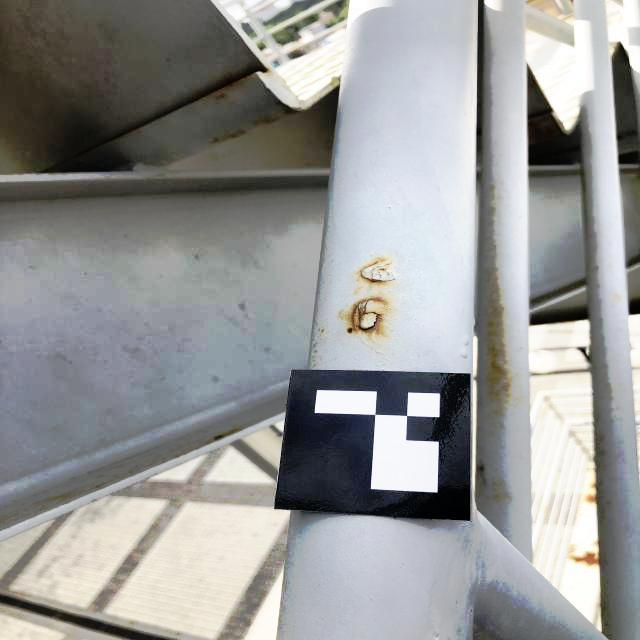Corrosion: (484, 270, 519, 416), (345, 296, 389, 338), (358, 259, 390, 284), (570, 550, 599, 567), (213, 430, 233, 441), (583, 494, 596, 504), (571, 544, 578, 554), (588, 482, 595, 490), (594, 540, 598, 546)
